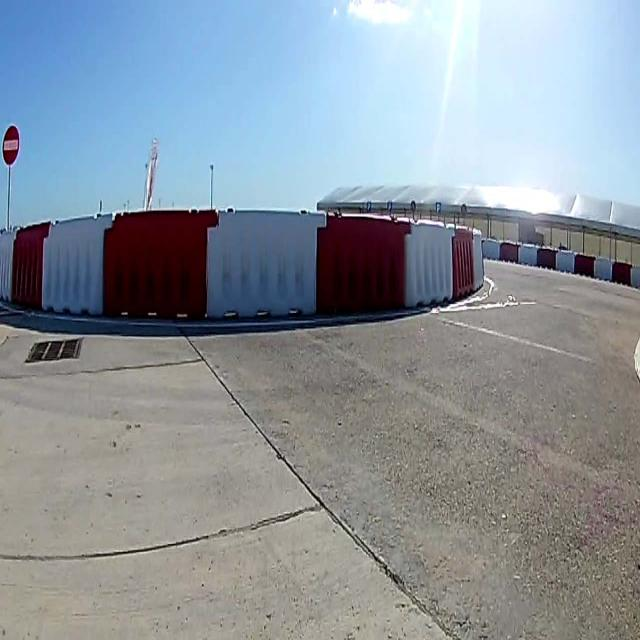girisyok: (2, 124, 20, 168)
